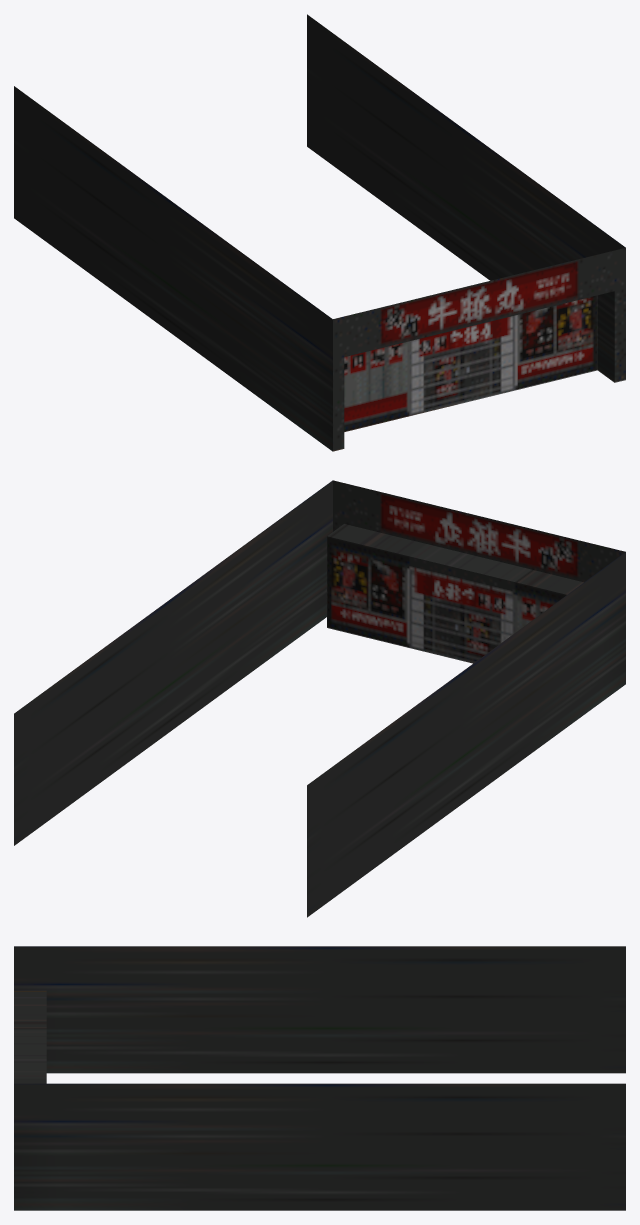
The model's file is w20_bldg1f_f.fbx.
The picture shows the model from 3 angles, top to bottom: view 1: azimuth 30°, elevation 25°; view 2: azimuth 150°, elevation 25°; view 3: azimuth 270°, elevation 25°; orthographic projection. The views are drawn at different scales.
Visible parts, largest first — view 1: w20_bldg1f_F; view 2: w20_bldg1f_F; view 3: w20_bldg1f_F.
Part boxes in pixels (<box>): w20_bldg1f_F: <box>14,14,625,451</box>; w20_bldg1f_F: <box>14,480,625,917</box>; w20_bldg1f_F: <box>14,946,625,1210</box>.
Size of the model in its own units: 1400 by 604 by 2637.
